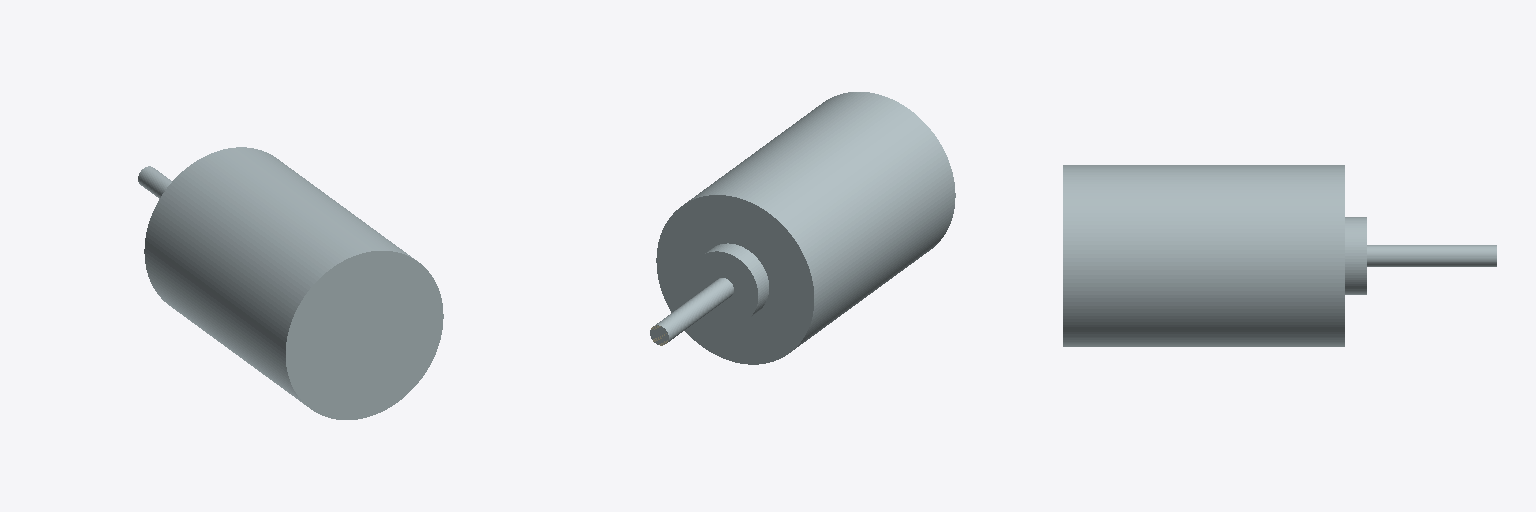
Rendered from MotorDC.obj.
3 renders of one model, left to right at view 1: azimuth 30°, elevation 25°; view 2: azimuth 150°, elevation 25°; view 3: azimuth 270°, elevation 25°, orthographic.
Visible parts, largest first — view 1: 5d3fc1247ba78015bd7b02f4_ID3; view 2: 5d3fc1247ba78015bd7b02f4_ID3; view 3: 5d3fc1247ba78015bd7b02f4_ID3.
Part boxes in pixels (x1,y1,x2,y2): 5d3fc1247ba78015bd7b02f4_ID3: (138,147,443,419); 5d3fc1247ba78015bd7b02f4_ID3: (650,92,955,364); 5d3fc1247ba78015bd7b02f4_ID3: (1063,165,1496,346).
Bounding box in the file's own units: 42 × 42 × 100.